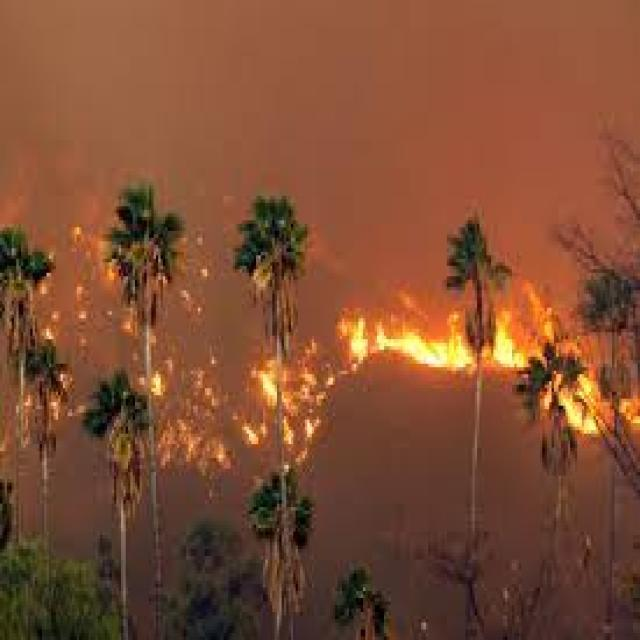Fire: (346, 298, 536, 378)
Smoke: (0, 0, 640, 213)
